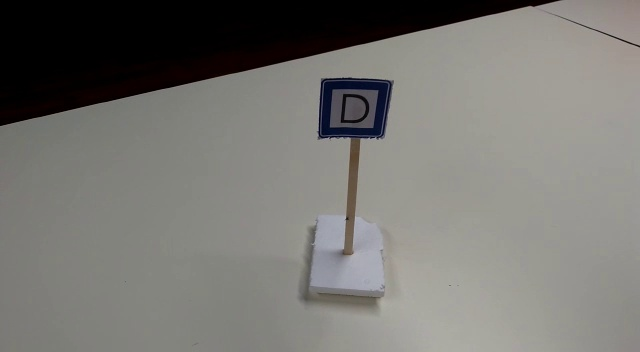durak: (319, 76, 394, 141)
